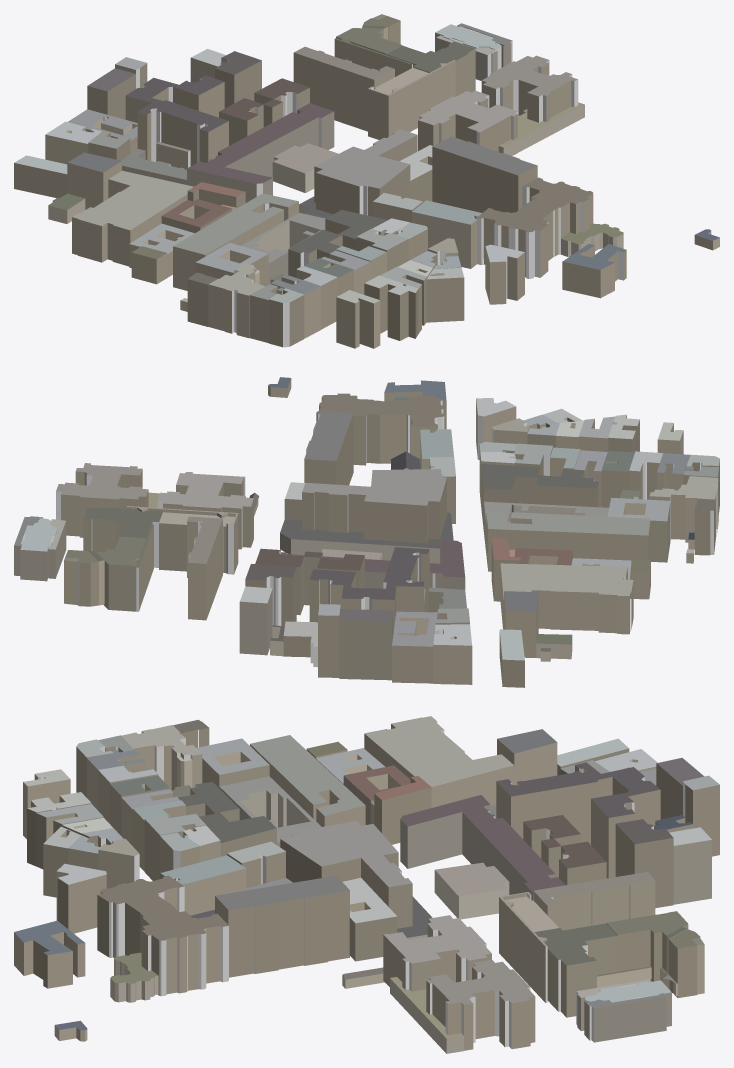
3 views of the same model, one above another, from view 1: azimuth 30°, elevation 25°; view 2: azimuth 150°, elevation 25°; view 3: azimuth 270°, elevation 25° (orthographic). The views are drawn at different scales.
Parts seen in each view (by area): view 1: tuile; view 2: tuile; view 3: tuile.
Boxes of the visible parts, left/top/right/bottom form: tuile: left=14, top=14, right=719, bottom=348; tuile: left=14, top=377, right=719, bottom=687; tuile: left=14, top=716, right=719, bottom=1053.
Bounding box in the file's own units: 272 × 33.82 × 270.
